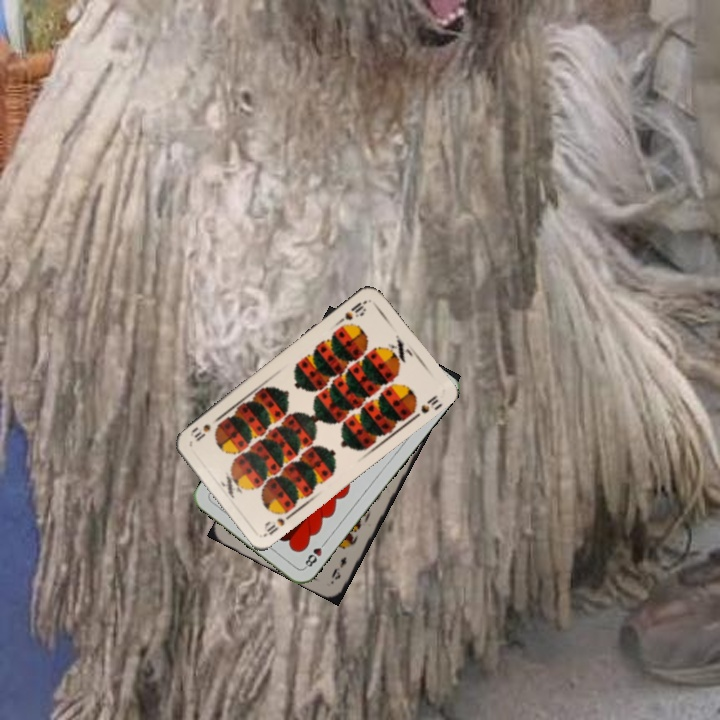E9: (327, 552, 349, 583)
H8: (300, 536, 330, 571)
S10: (260, 505, 297, 538), (334, 296, 369, 326)
